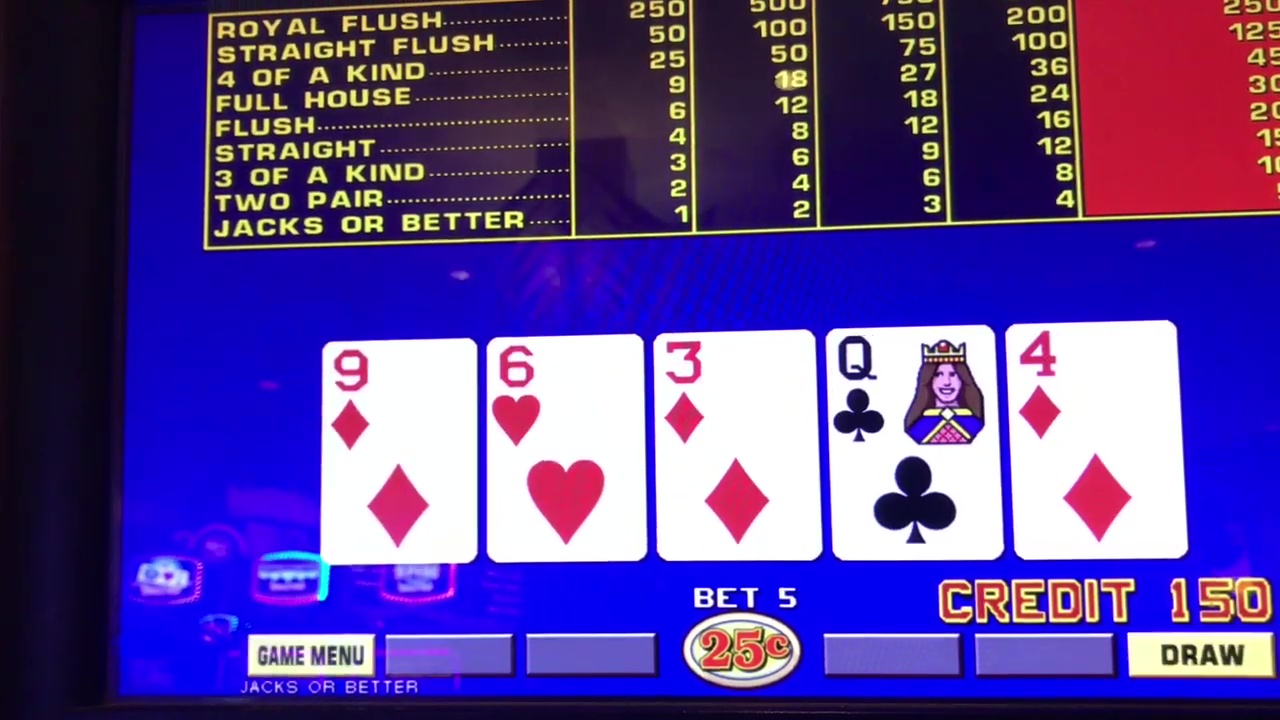CQ: (829, 332, 994, 456)
D3: (658, 336, 816, 458)
D4: (1015, 329, 1182, 453)
D9: (321, 344, 473, 461)
H6: (492, 338, 642, 460)
